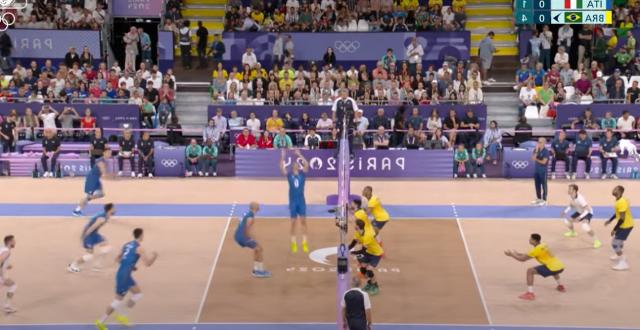Levantador: (284, 155, 310, 251), (350, 219, 384, 291)
Libero: (566, 182, 594, 240), (1, 235, 18, 314)
bola: (274, 119, 284, 131)
